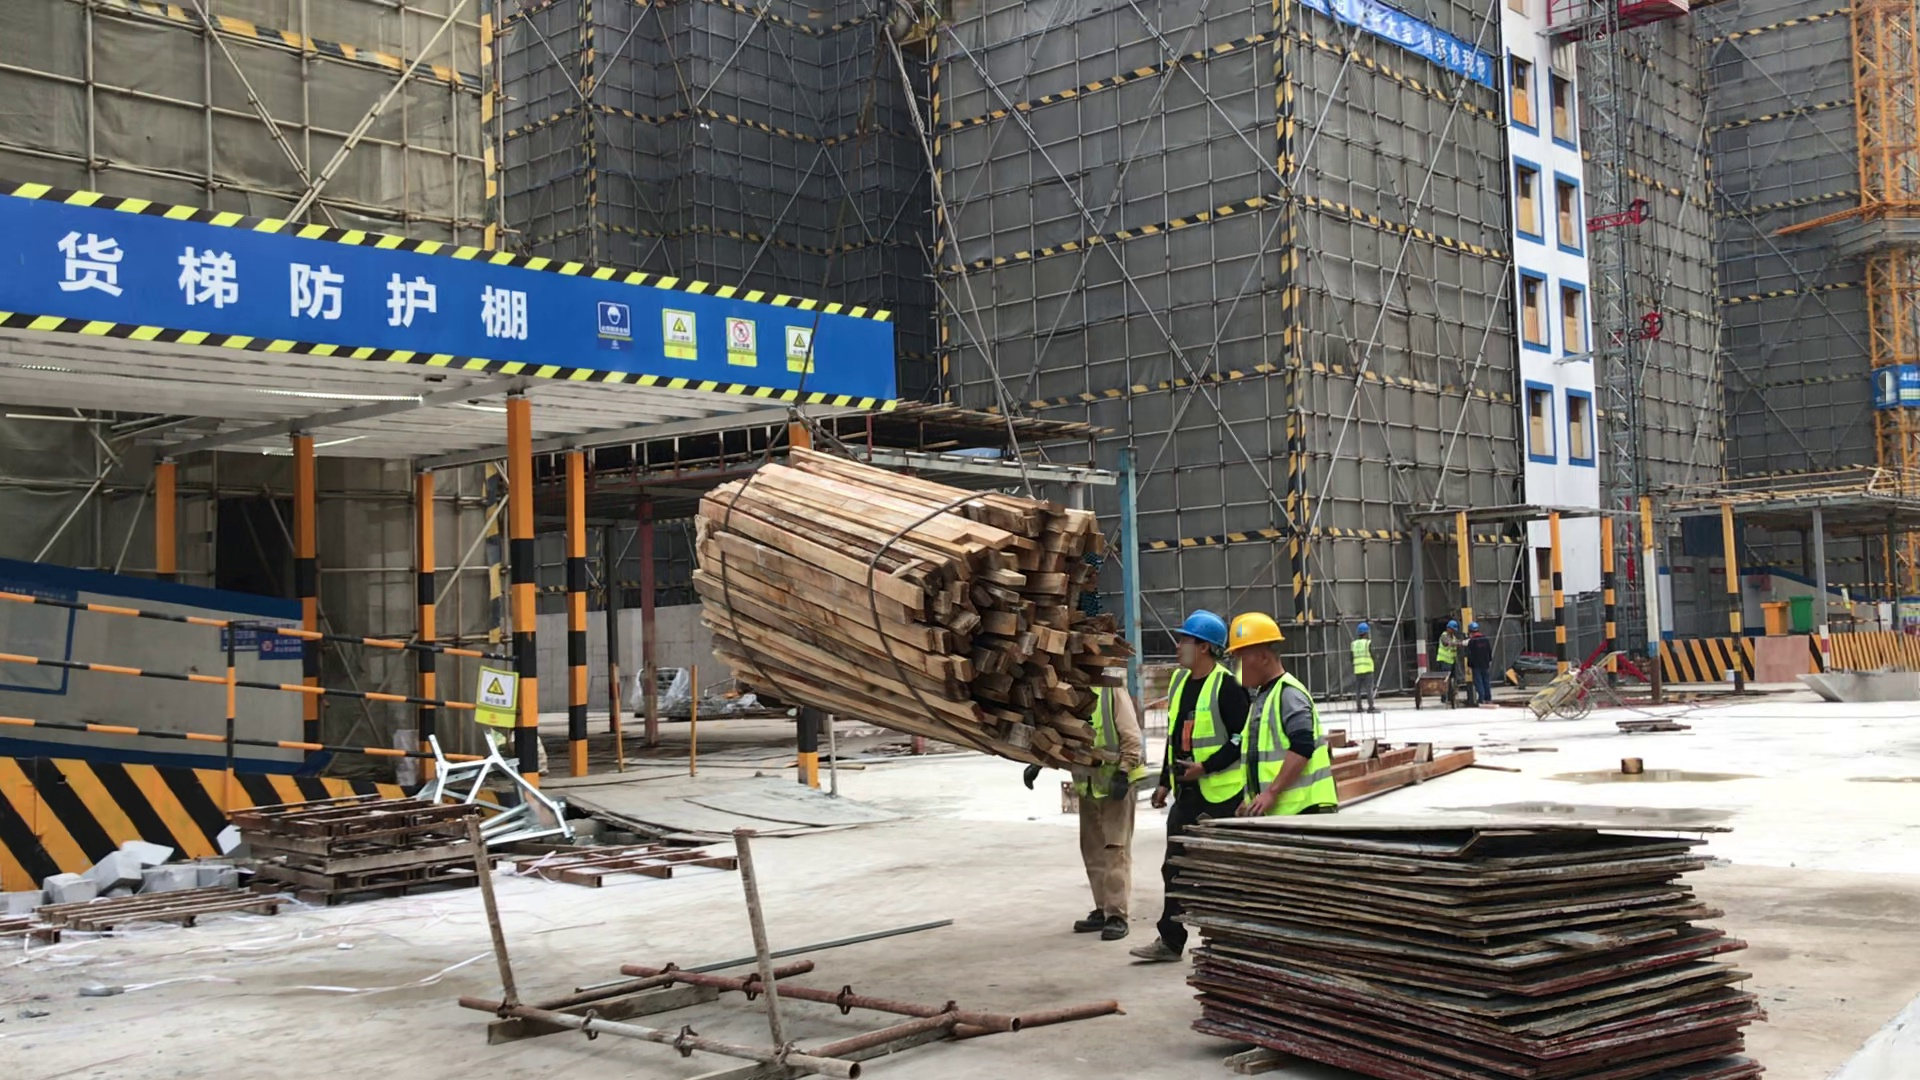board: (1146, 795, 1791, 1080)
brick: (2, 826, 254, 937)
fence: (1, 555, 540, 782), (1825, 579, 1920, 636)
handcart: (1527, 649, 1627, 722), (1409, 667, 1456, 711)
helmet: (1221, 595, 1294, 661), (1171, 601, 1228, 653), (1352, 618, 1375, 638), (1442, 615, 1463, 633), (1464, 621, 1484, 637)
hook: (806, 1, 991, 80)
hopper: (1794, 651, 1920, 708)
person: (1219, 606, 1359, 824), (1165, 601, 1240, 965), (1070, 651, 1156, 950), (1346, 614, 1390, 714), (1459, 619, 1508, 704), (1432, 610, 1462, 689)
slogan: (1, 166, 945, 437), (4, 530, 335, 774), (1295, 1, 1510, 93), (464, 664, 530, 739), (1861, 353, 1920, 416)
vest: (1239, 671, 1351, 818), (1165, 663, 1246, 804), (1072, 679, 1143, 799), (1348, 637, 1378, 676), (1436, 630, 1457, 668)
wood: (676, 443, 1114, 804)
